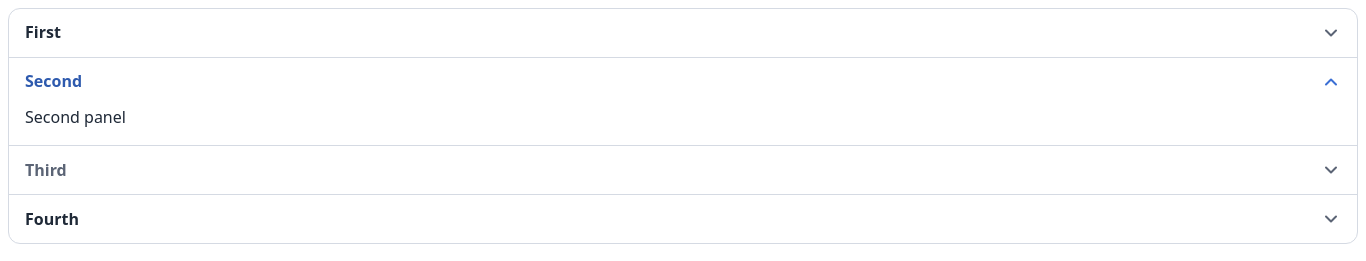
Accordion behaviour › follows the value prop when controlled
What coordinates should you click on to do the following:
click the button "First"
I would click on:
 (43, 32)
Its box is [9,9,1357,57].
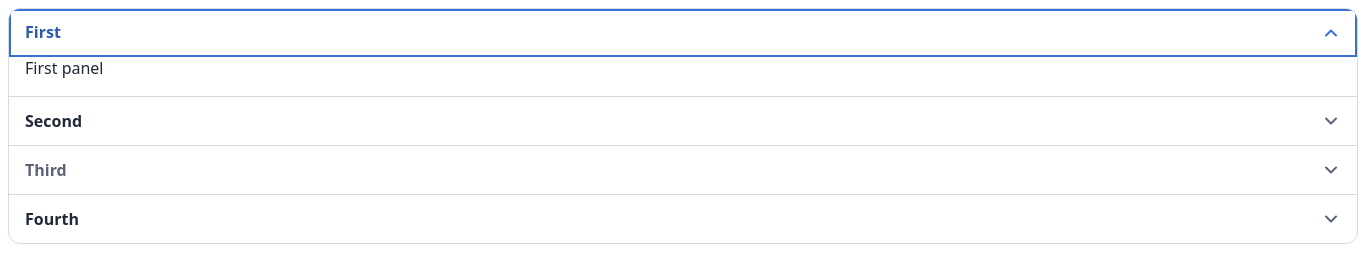
Check: the button "First" is expanded, box [9,9,1357,57]
Check: the button "Second" is collapsed, box [9,97,1357,145]
